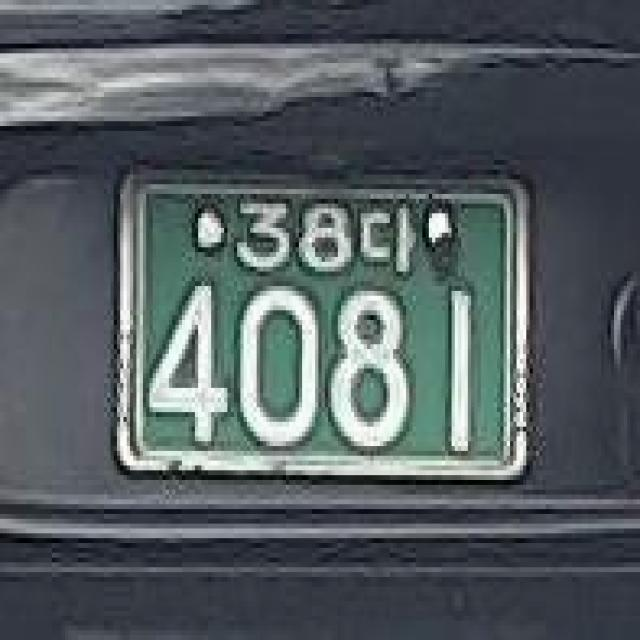illegal_plate: (104, 157, 545, 498)
